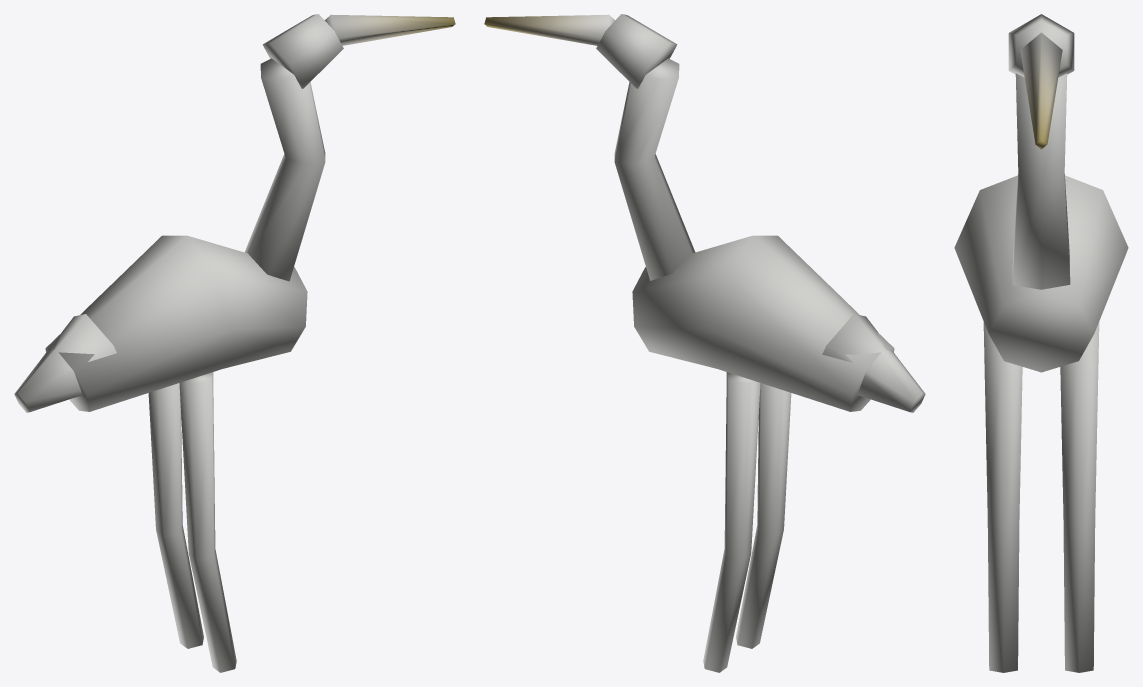
The model's file is heron.glb.
3 renders of one model, left to right at view 1: azimuth 30°, elevation 25°; view 2: azimuth 150°, elevation 25°; view 3: azimuth 270°, elevation 25°, orthographic. The views are drawn at different scales.
Visible parts, largest first — view 1: heron; view 2: heron; view 3: heron.
Part boxes in pixels (x1,y1,x2,y2): heron: [14, 14, 455, 672]; heron: [484, 14, 925, 672]; heron: [954, 14, 1128, 672].
Size of the model in its own units: 0.7691 by 1.04 by 0.23.
